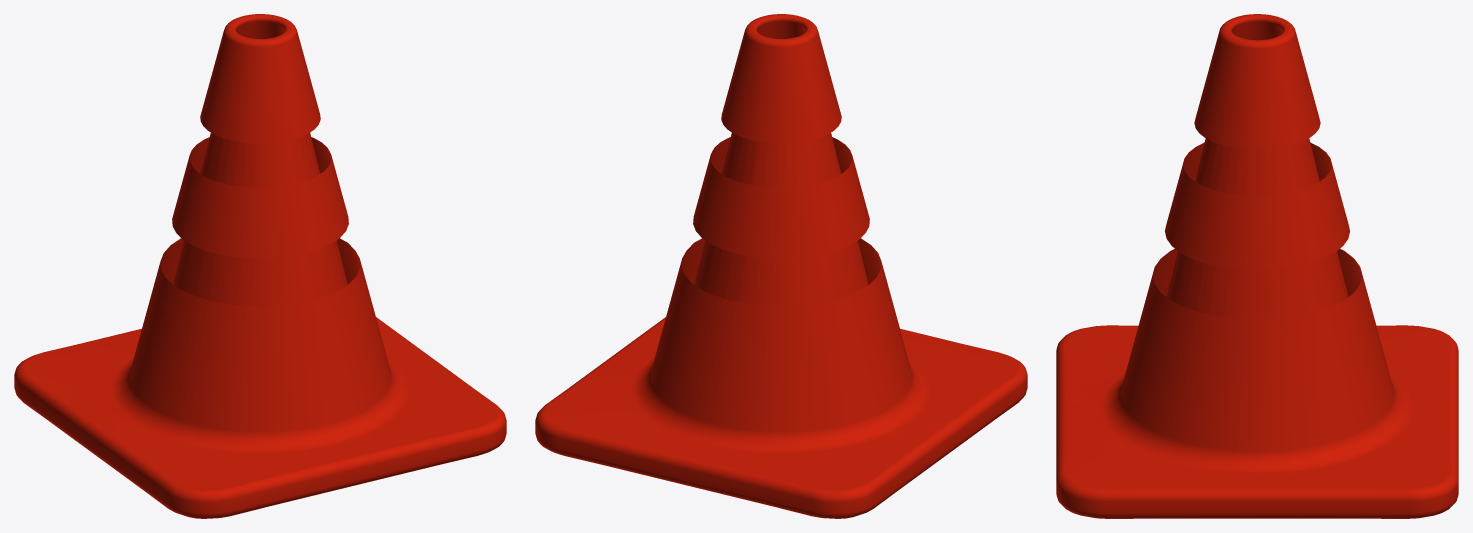
The model's file is SM_TrafficCone_V0_4_1.obj.
3 renders of one model, left to right at view 1: azimuth 30°, elevation 25°; view 2: azimuth 150°, elevation 25°; view 3: azimuth 270°, elevation 25°, orthographic. The views are drawn at different scales.
Size of the model in its own units: 35.72 by 40 by 35.72.
